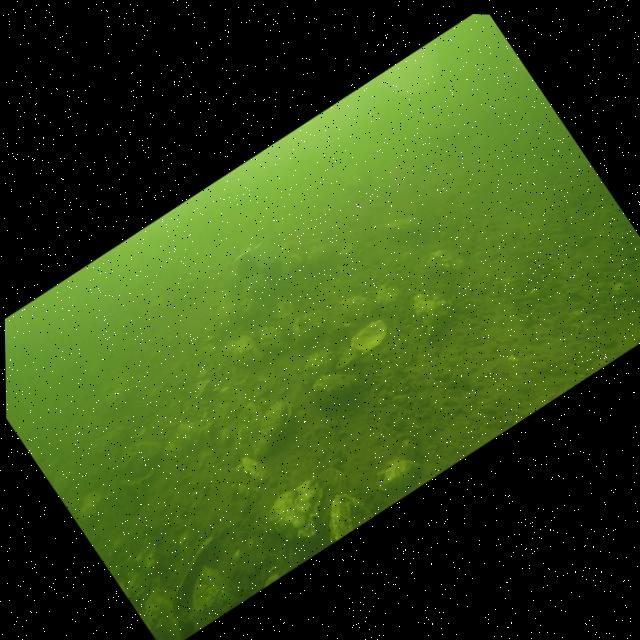Oyster-Closed: (269, 476, 323, 539), (253, 398, 291, 458), (330, 493, 374, 543), (413, 293, 452, 339), (121, 441, 164, 479), (377, 459, 421, 493), (313, 373, 358, 404), (224, 334, 264, 365), (342, 295, 381, 321), (383, 217, 423, 242), (293, 313, 323, 345), (177, 418, 213, 443), (427, 250, 465, 270), (259, 326, 288, 351), (276, 299, 299, 328), (80, 491, 103, 520)
Oyster-Indeterminate: (189, 563, 241, 625), (142, 576, 181, 640), (237, 402, 263, 451), (105, 373, 134, 409), (95, 426, 129, 453)
Oyster-Open: (170, 531, 222, 615), (351, 320, 387, 353)
